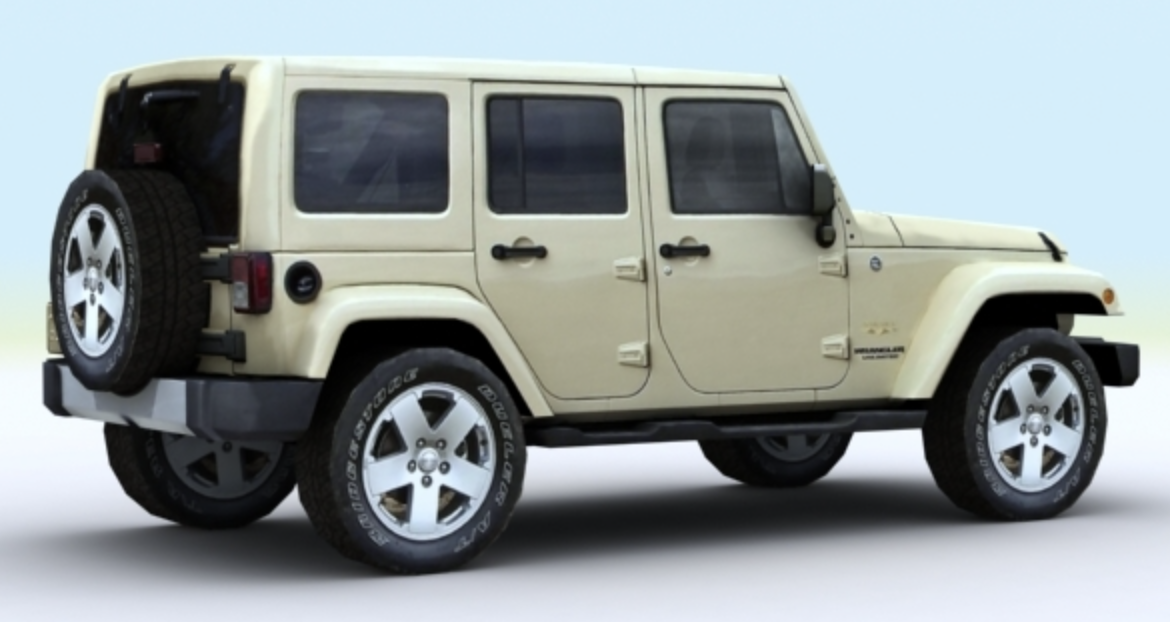hatch: (279, 256, 329, 311)
